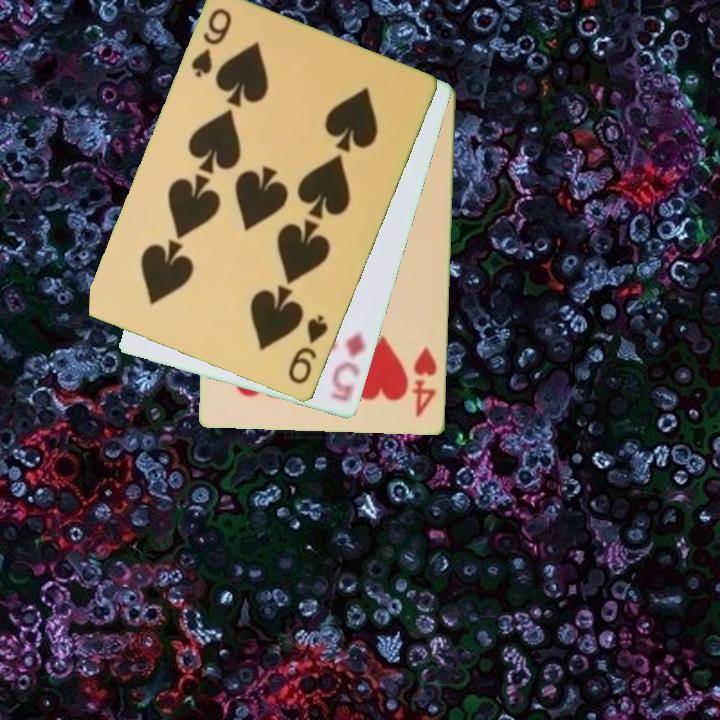4h: (408, 343, 440, 420)
5d: (327, 329, 369, 405)
9s: (188, 5, 235, 81), (285, 311, 331, 388)
